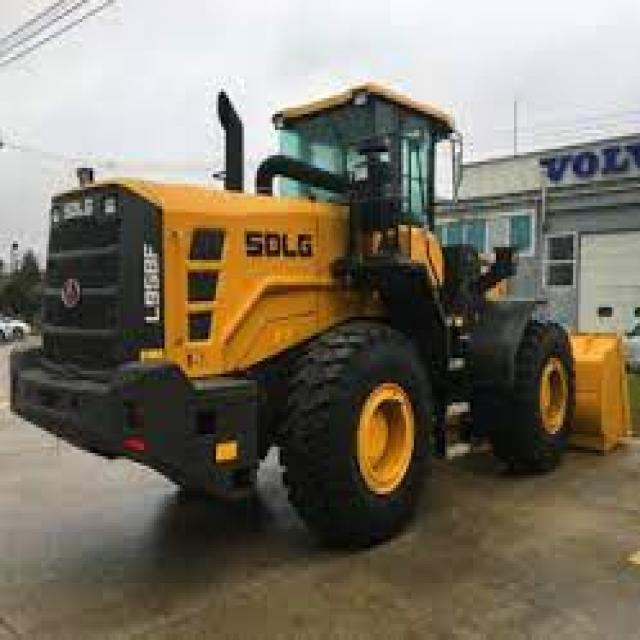buldozerpayloadergrader: (39, 80, 632, 549)
